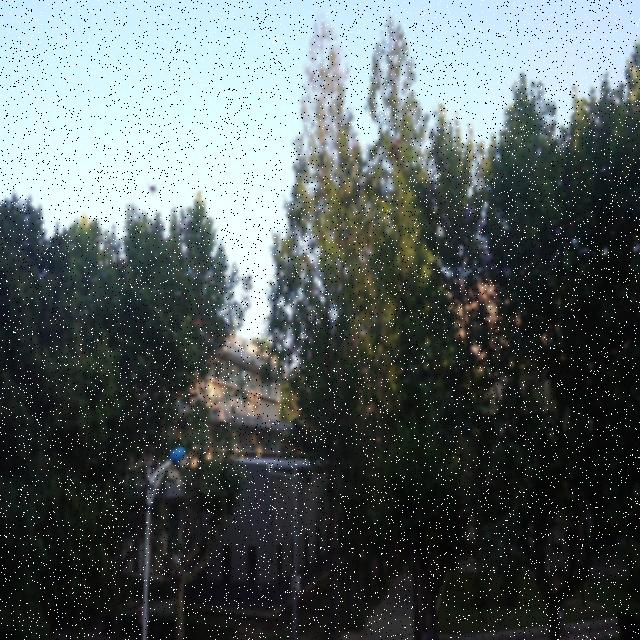UAV: (148, 183, 158, 195)
